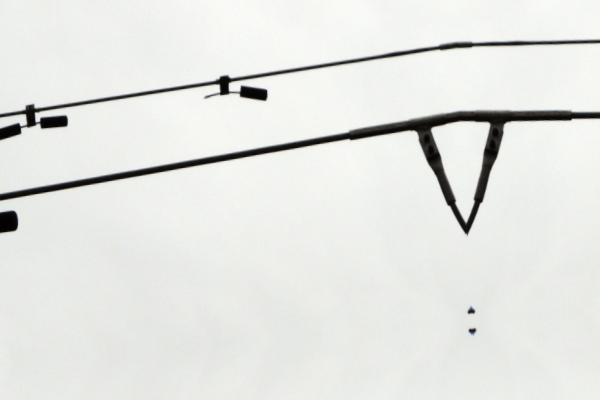damper_defect: (197, 73, 268, 104)
